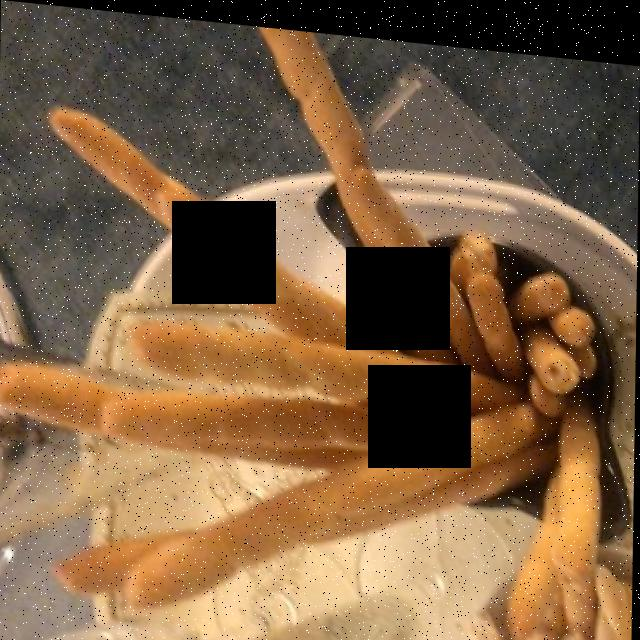grissini: (4, 25, 611, 629)
